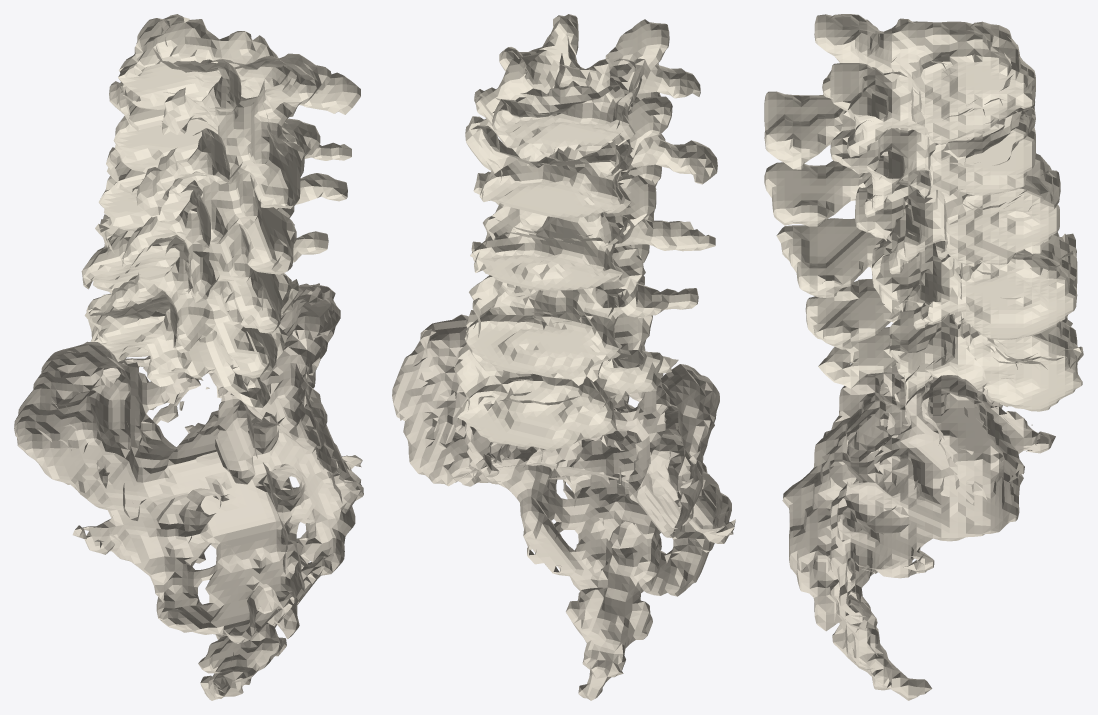
The model's file is anatomy.glb.
3 views of the same model, side by side, from view 1: azimuth 30°, elevation 25°; view 2: azimuth 150°, elevation 25°; view 3: azimuth 270°, elevation 25° (orthographic). The views are drawn at different scales.
Visible parts, largest first — view 1: sacrum, vertebrae_L1, vertebrae_L2, vertebrae_L3, vertebrae_L4, vertebrae_L5; view 2: sacrum, vertebrae_L1, vertebrae_L4, vertebrae_L2, vertebrae_L5, vertebrae_L3; view 3: sacrum, vertebrae_L1, vertebrae_L3, vertebrae_L4, vertebrae_L2, vertebrae_L5.
Boxes of the visible parts, x1,y1,x2,y2 form: sacrum: [14, 283, 363, 700]; vertebrae_L1: [118, 14, 360, 208]; vertebrae_L2: [109, 81, 351, 274]; vertebrae_L3: [98, 147, 347, 333]; vertebrae_L4: [81, 214, 328, 378]; vertebrae_L5: [84, 279, 298, 408]; sacrum: [392, 314, 735, 700]; vertebrae_L1: [474, 14, 700, 153]; vertebrae_L4: [464, 241, 698, 385]; vertebrae_L2: [465, 96, 717, 217]; vertebrae_L5: [454, 310, 678, 450]; vertebrae_L3: [470, 171, 715, 297]; sacrum: [782, 317, 1055, 700]; vertebrae_L1: [764, 14, 1035, 172]; vertebrae_L3: [776, 153, 1060, 308]; vertebrae_L4: [805, 232, 1077, 349]; vertebrae_L2: [764, 94, 1035, 238]; vertebrae_L5: [818, 310, 1083, 411].
Size of the model in its own units: 132 by 272 by 116.
